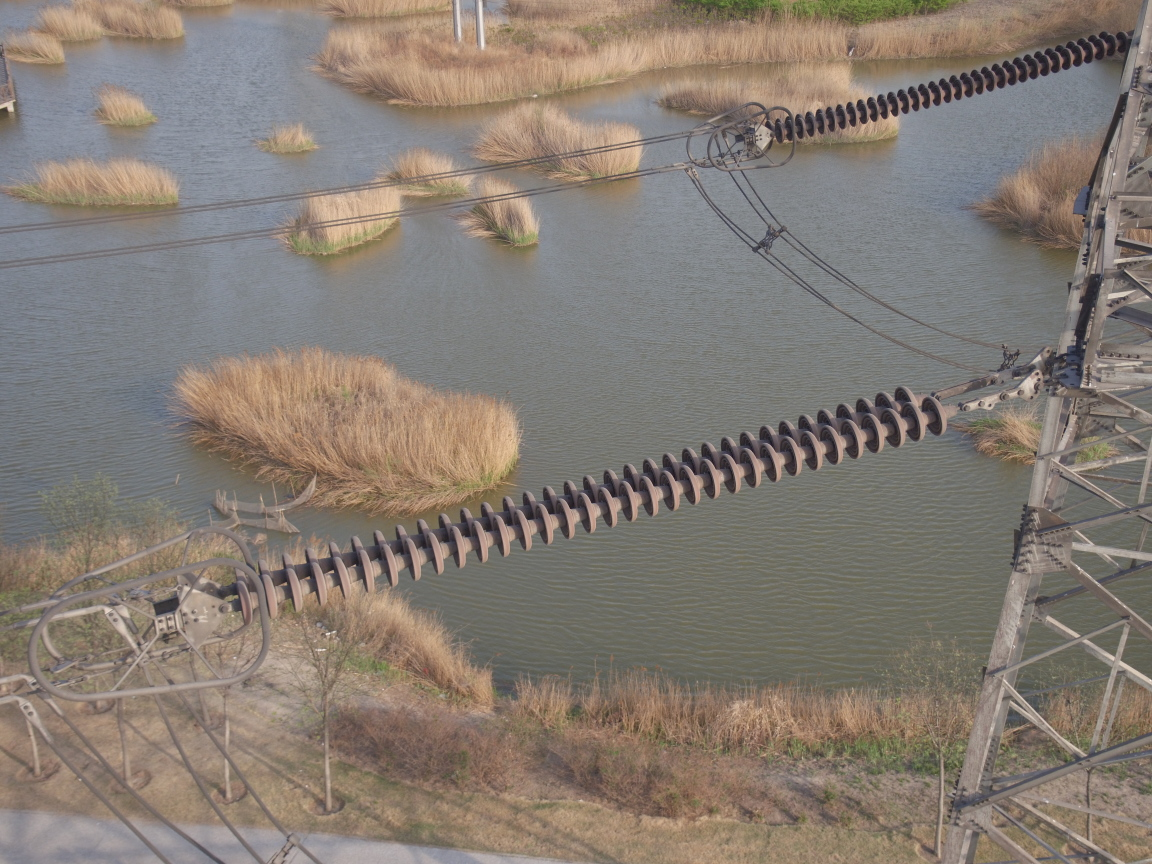insulator: (201, 376, 994, 628), (761, 23, 1134, 146)
